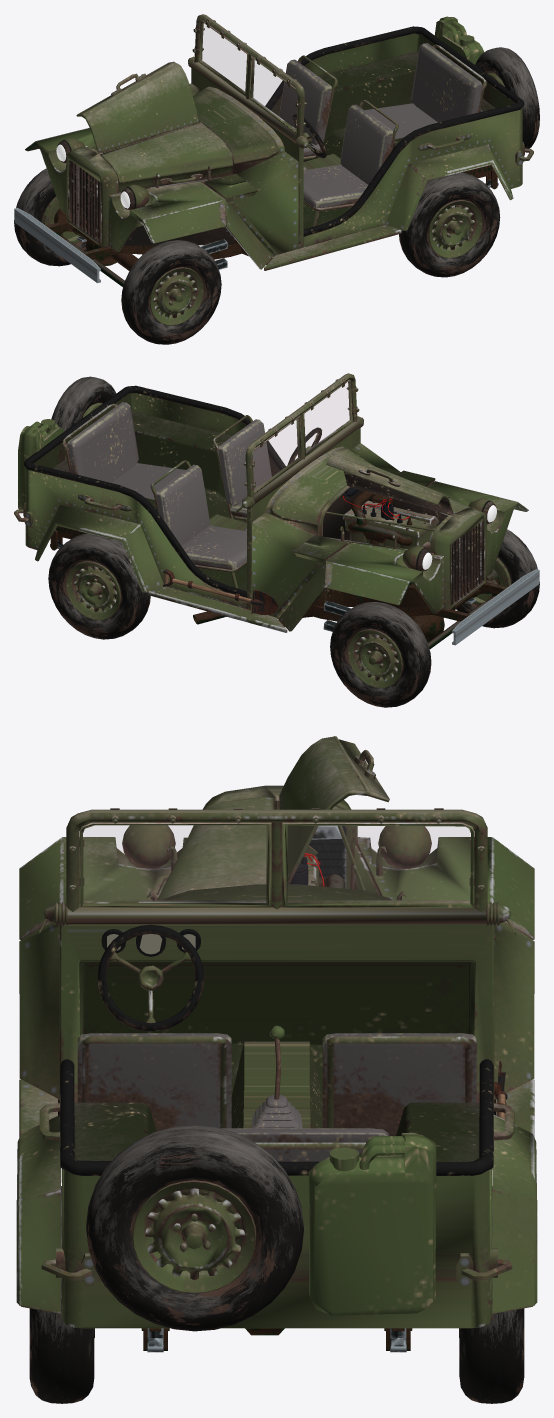
File: jeep-no-budget.glb
The picture shows the model from 3 angles, top to bottom: view 1: azimuth 30°, elevation 25°; view 2: azimuth 150°, elevation 25°; view 3: azimuth 270°, elevation 25°; orthographic projection. The views are drawn at different scales.
Parts seen in each view (by area): view 1: Cube.034; view 2: Cube.034; view 3: Cube.034.
Part boxes in pixels (x1,y1,x2,y2): Cube.034: [14, 14, 539, 344]; Cube.034: [14, 373, 539, 707]; Cube.034: [16, 736, 537, 1403].
Size of the model in its own units: 3.64 by 1.73 by 1.85.
Materials: 5 (4 with a texture image).
